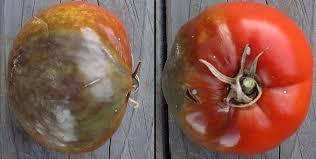tomato late blight: (164, 3, 315, 157), (10, 7, 137, 154)
